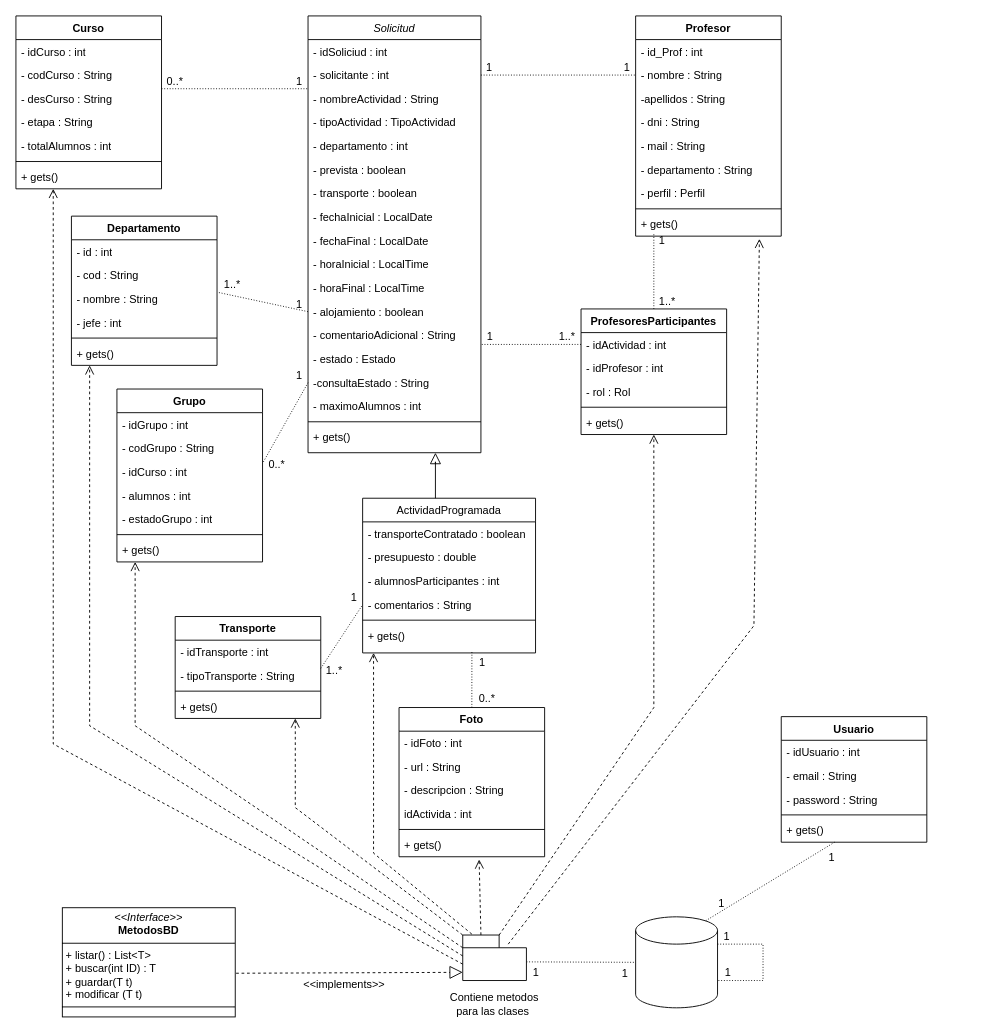
The diagram is 1006 pixels wide and 1034 high, and some of its shapes have lost their labels. Each missing label, with the centre of its shape:
Base de Datos: the point at 676,962
DAOImp: the point at 494,957
